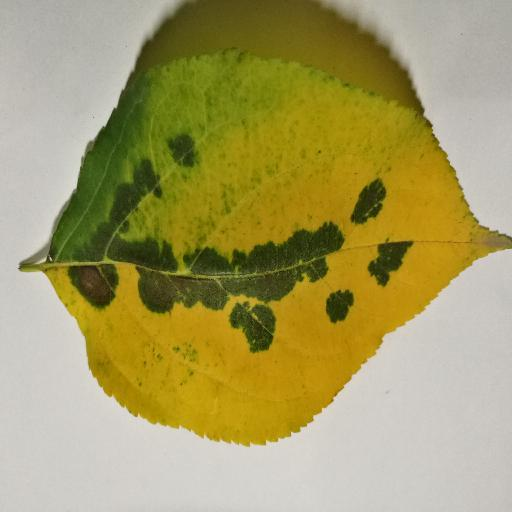Brown_Spot: (137, 268, 220, 320), (64, 262, 123, 307)
